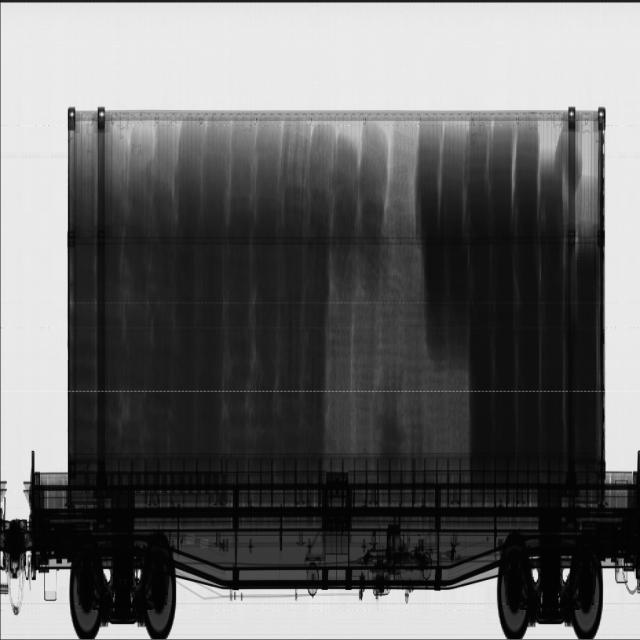clothes: (423, 118, 601, 448)
textiles: (72, 120, 467, 458)
